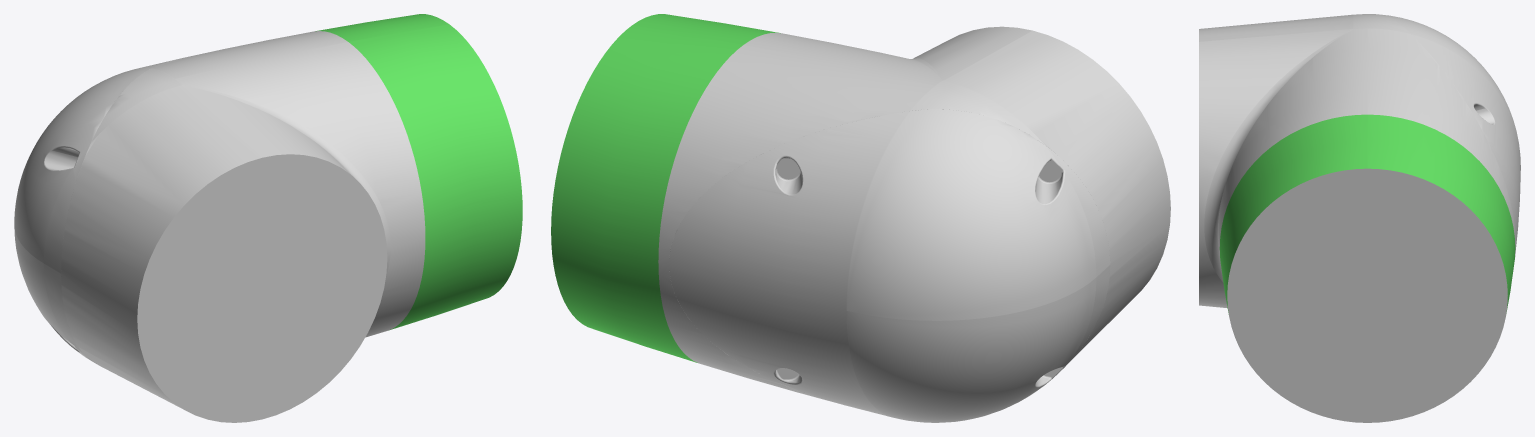
3 renders of one model, left to right at view 1: azimuth 30°, elevation 25°; view 2: azimuth 150°, elevation 25°; view 3: azimuth 270°, elevation 25°, orthographic. The views are drawn at different scales.
Visible parts, largest first — view 1: Mesh_0.004; view 2: Mesh_0.004; view 3: Mesh_0.004.
Boxes of the visible parts, <box> form: Mesh_0.004: <box>14,14,522,422</box>; Mesh_0.004: <box>551,14,1170,422</box>; Mesh_0.004: <box>1199,14,1520,422</box>.
Size of the model in its own units: 0.182 by 0.128 by 0.122.
